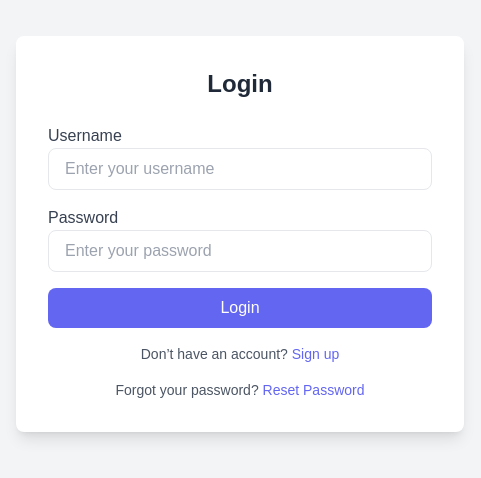
Test: LoginPage › displays error if username or password is missing
Click the button "Login". click: (240, 308)
box: [48,288,432,328]
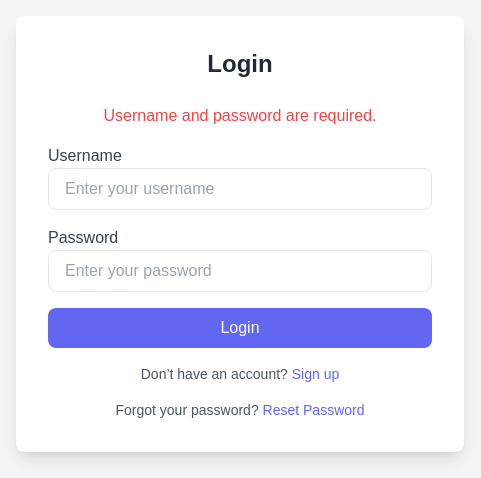
expect the text "Username and password are required." is shown: met, box [104,107,376,124]
